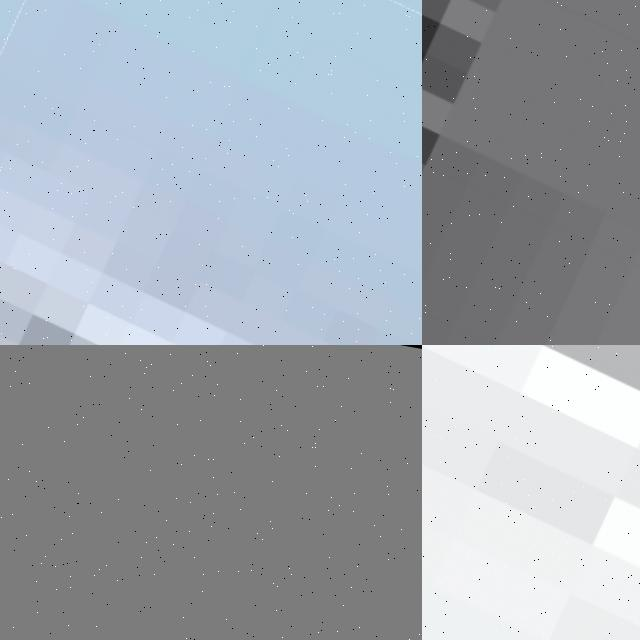drone: (0, 0, 422, 345), (422, 0, 640, 345), (422, 345, 640, 640)
